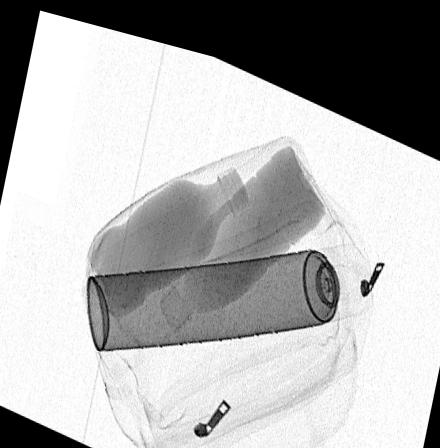Sprayer: (87, 223, 374, 346)
